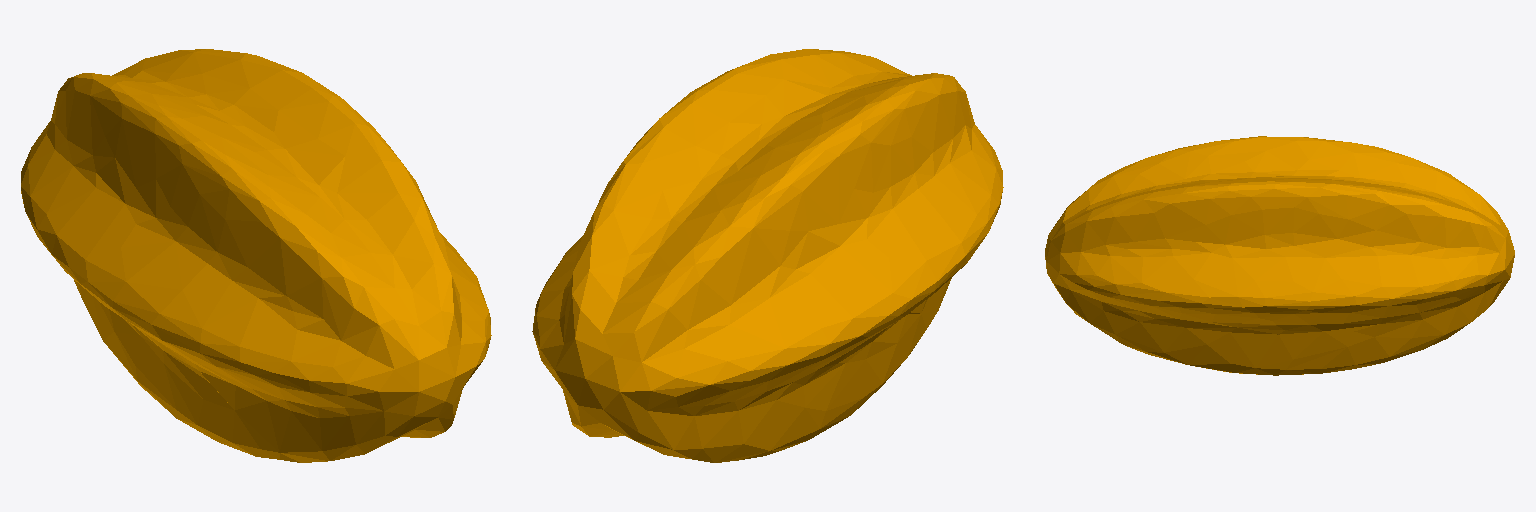
URDF robot description (starfruit_poisson_000):
<?xml version="1.0"?>
<robot name="starfruit_poisson_000">
  <link name="base_link">
    <contact>
      <lateral_friction value="1.0"/>
      <rolling_friction value="0.0"/>
      <contact_cfm value="0.0"/>
      <contact_erp value="1.0"/>
    </contact>
    <inertial>
      <mass value="0.278724449019"/>
      <inertia ixx="1" ixy="0" ixz="0" iyy="1" iyz="0" izz="1"/>
    </inertial>
    <visual>
      <geometry>
        <mesh filename="starfruit_poisson_000_visual.obj"/>
      </geometry>
    </visual>
    <collision>
      <geometry>
        <mesh filename="starfruit_poisson_000_collision.obj"/>
      </geometry>
    </collision>
  </link>
</robot>

--- Facts derived from the render (not from the file) ---
The picture shows the robot from 3 angles, left to right: view 1: azimuth 30°, elevation 25°; view 2: azimuth 150°, elevation 25°; view 3: azimuth 270°, elevation 25°; orthographic projection.
Robot: starfruit_poisson_000 — 1 links, 0 joints (none); root link base_link; default pose: every joint at zero.
Links seen in each view (by area): view 1: base_link; view 2: base_link; view 3: base_link.
Link boxes in pixels (x1,y1,x2,y2): base_link: (21,49,491,462); base_link: (532,49,1003,462); base_link: (1045,136,1514,375).
Size in the robot's own frame: 0.07 by 0.1382 by 0.0621 metres.
Meshes: 1 distinct files referenced, 1 mesh visuals loaded (1 OBJ).